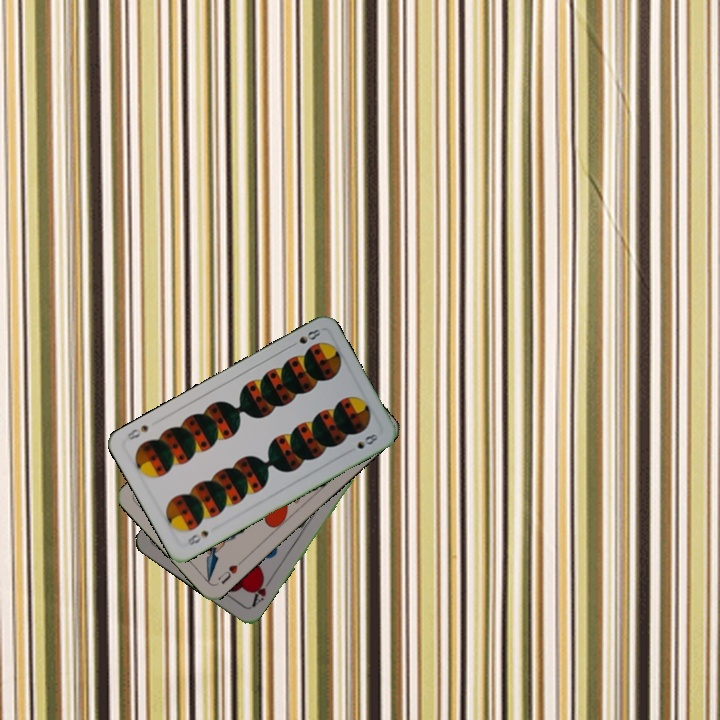HA: (248, 572, 274, 610)
HU: (214, 556, 246, 587)
S8: (285, 325, 323, 352), (182, 526, 211, 549)
